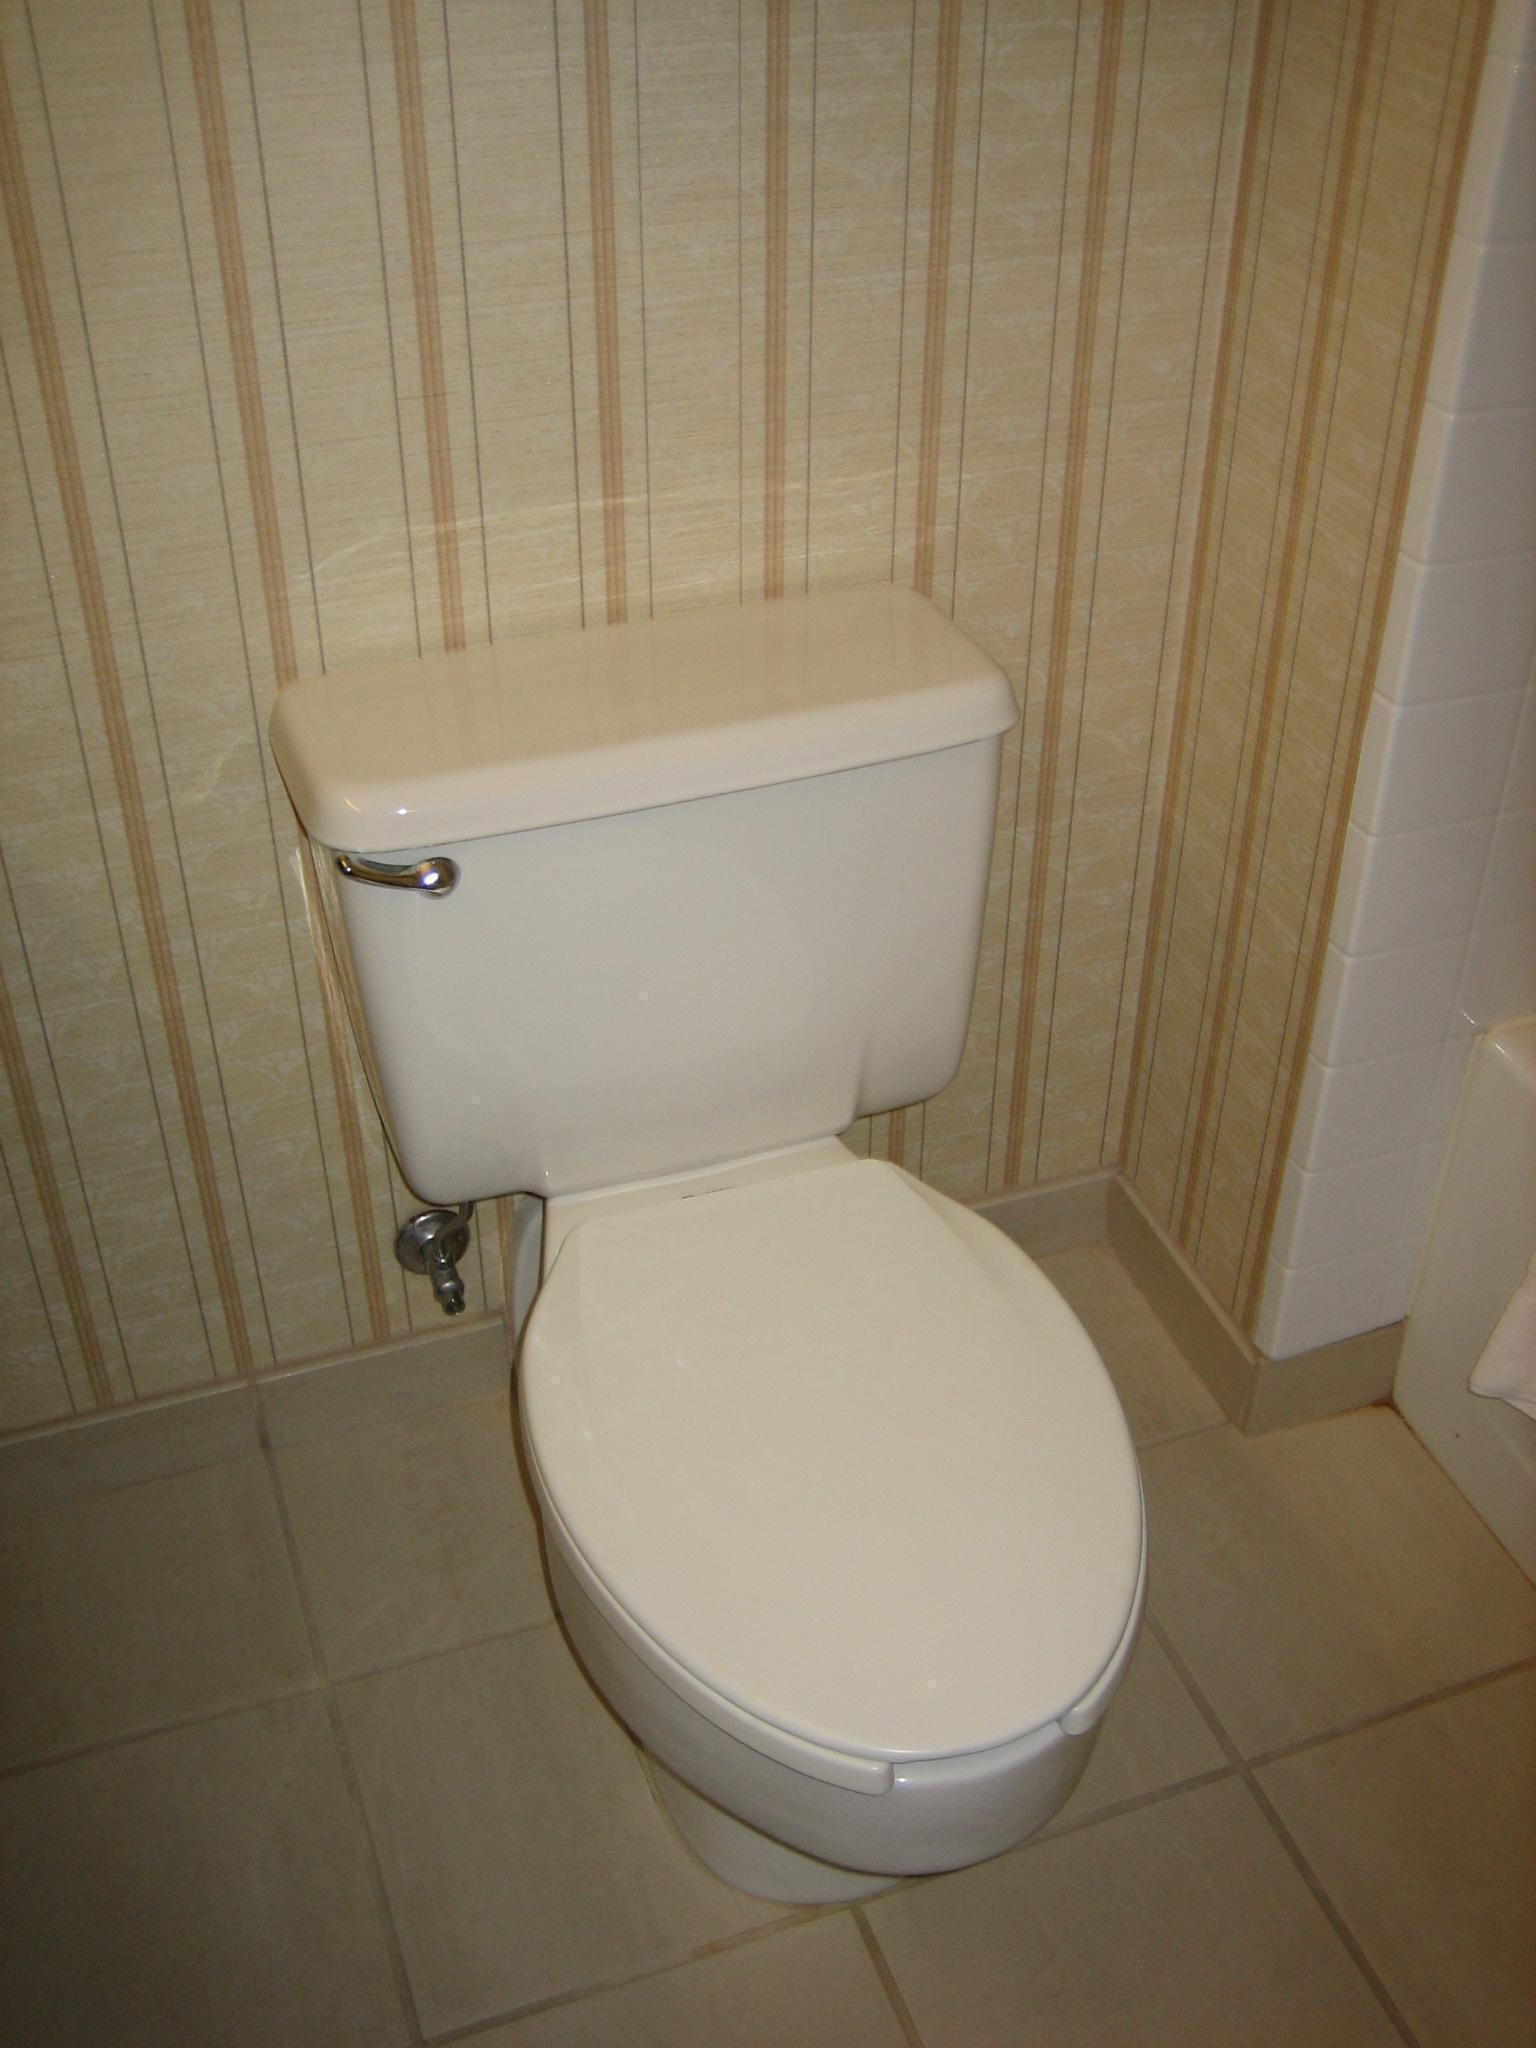Sanitario: (189, 626, 1258, 1879)
